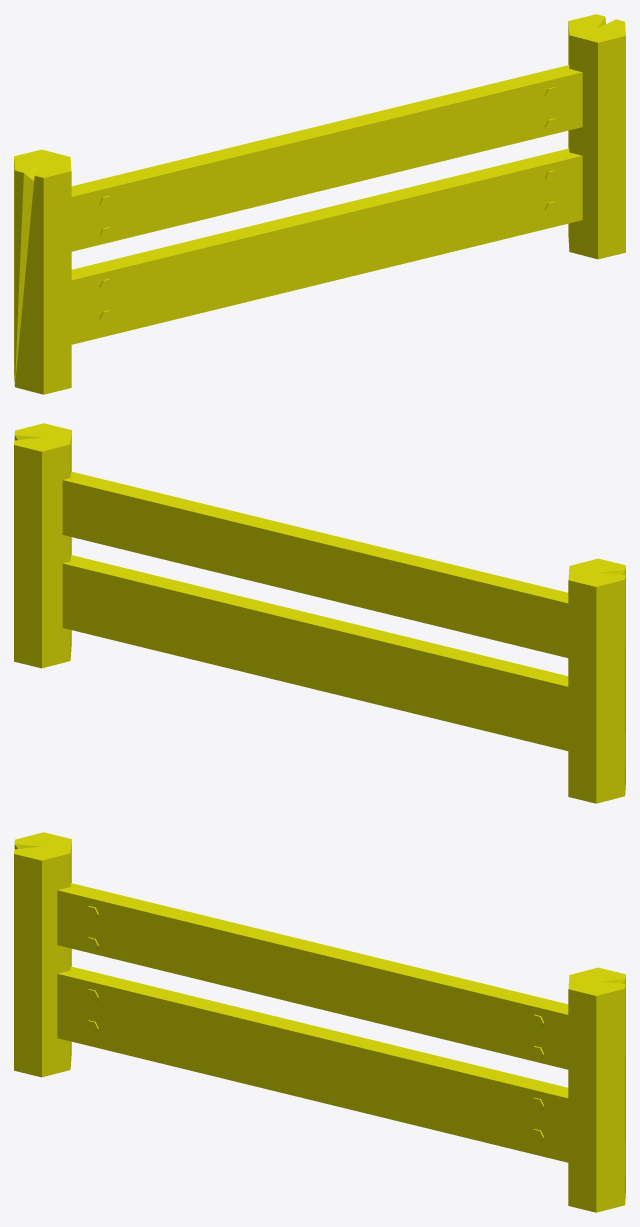
3 views of the same model, one above another, from view 1: azimuth 30°, elevation 25°; view 2: azimuth 150°, elevation 25°; view 3: azimuth 330°, elevation 25° (orthographic).
Parts seen in each view (by area): view 1: fence; view 2: fence; view 3: fence.
Part boxes in pixels (left/top/right/bottom): fence: left=14, top=14, right=625, bottom=394; fence: left=14, top=423, right=625, bottom=803; fence: left=14, top=832, right=625, bottom=1212.
Bounding box in the file's own units: 5.46 × 1.85 × 0.4601.
Materials: 1 (1 with a texture image).
